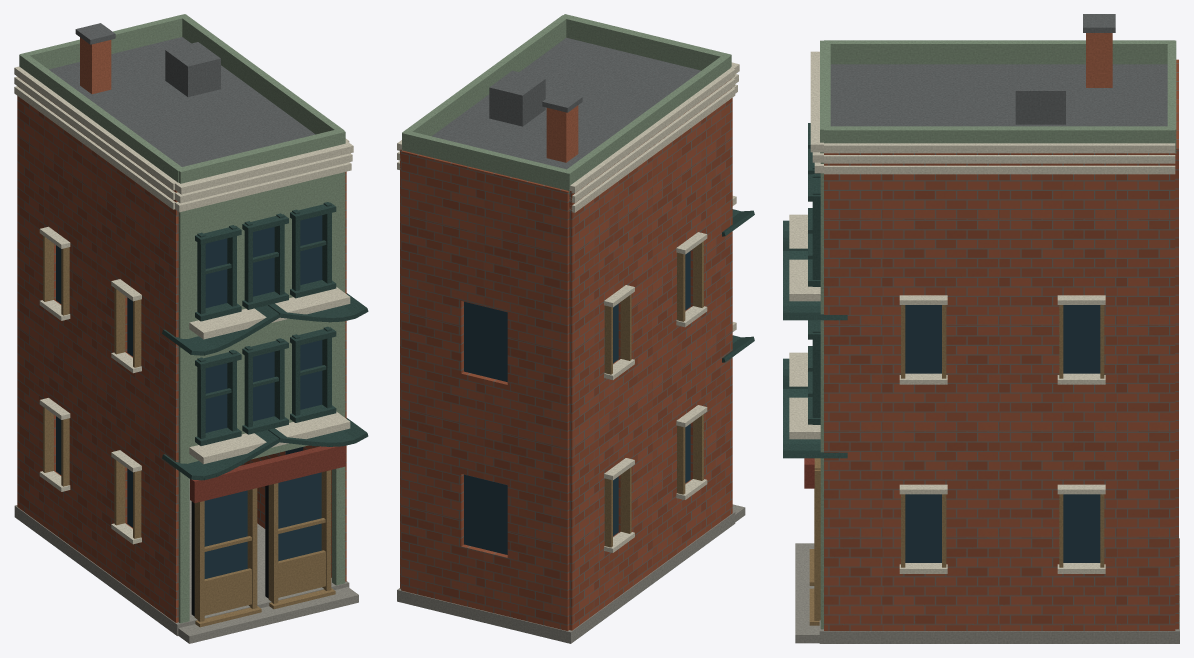
Rendered from CHINA14_lod2.glb.
3 renders of one model, left to right at view 1: azimuth 30°, elevation 25°; view 2: azimuth 150°, elevation 25°; view 3: azimuth 270°, elevation 25°, orthographic. The views are drawn at different scales.
Visible parts, largest first — view 1: CHINA14_LOD2; view 2: CHINA14_LOD2; view 3: CHINA14_LOD2.
Part boxes in pixels (x1,y1,x2,y2): CHINA14_LOD2: (14,14,368,643); CHINA14_LOD2: (397,14,754,643); CHINA14_LOD2: (783,14,1179,643).
Size of the model in its own units: 4.11 by 10.45 by 6.78.
11 materials, 9 textured.
